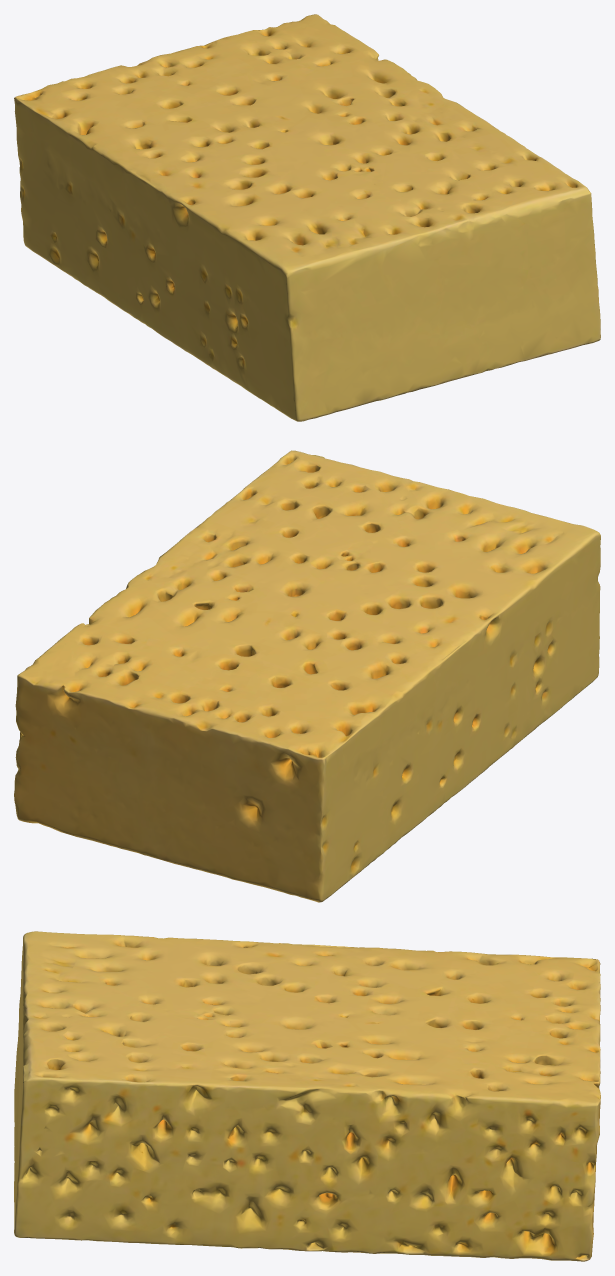
Rendered from cellulose-sponge.glb.
3 views of the same model, one above another, from view 1: azimuth 30°, elevation 25°; view 2: azimuth 150°, elevation 25°; view 3: azimuth 270°, elevation 25° (orthographic). The views are drawn at different scales.
Parts seen in each view (by area): view 1: tripo_node_84cb0cf5-5624-4923-bbe8-994484aeab7d; view 2: tripo_node_84cb0cf5-5624-4923-bbe8-994484aeab7d; view 3: tripo_node_84cb0cf5-5624-4923-bbe8-994484aeab7d.
Boxes of the visible parts, left/top/right/bottom form: tripo_node_84cb0cf5-5624-4923-bbe8-994484aeab7d: left=14, top=14, right=600, bottom=421; tripo_node_84cb0cf5-5624-4923-bbe8-994484aeab7d: left=14, top=450, right=600, bottom=902; tripo_node_84cb0cf5-5624-4923-bbe8-994484aeab7d: left=14, top=931, right=600, bottom=1261.
Size of the model in its own units: 0.6433 by 0.3587 by 1.
Materials: 1 (1 with a texture image).
